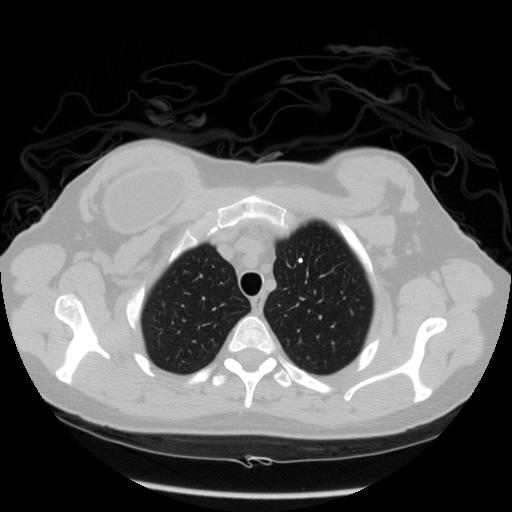nodule: (294, 255, 304, 265)
